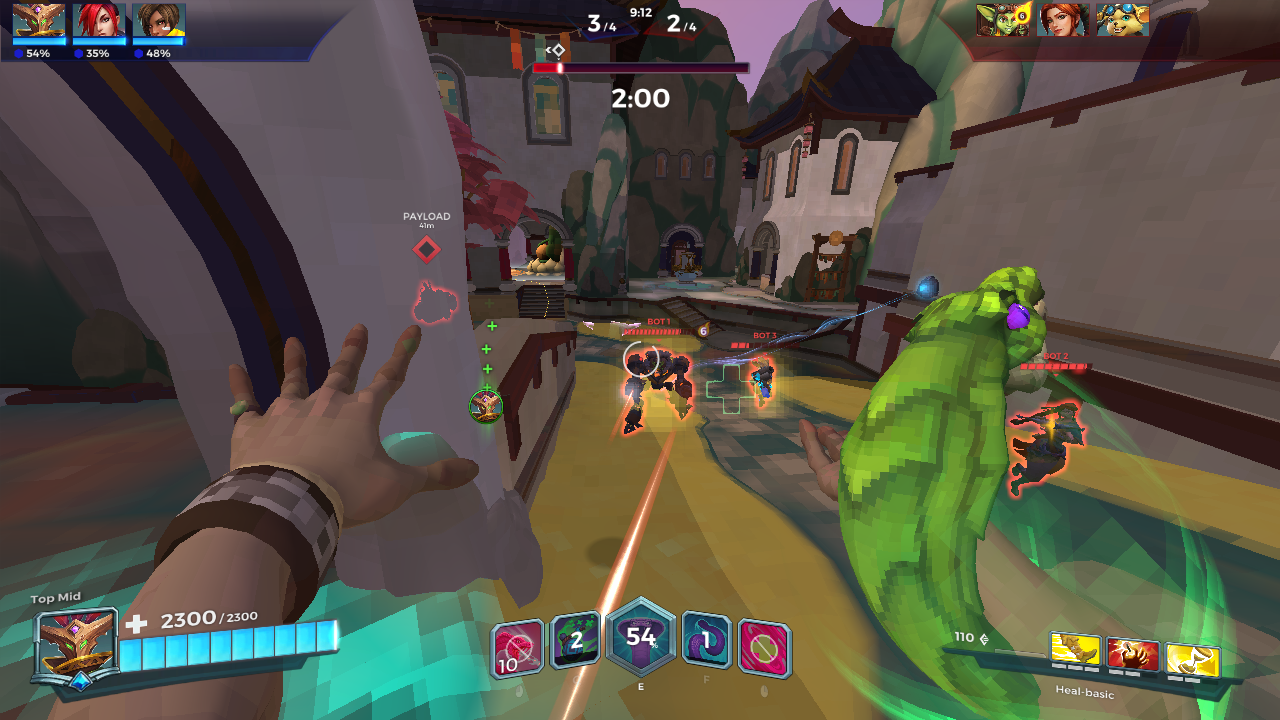model: (1000, 391, 1085, 503), (610, 345, 693, 439), (748, 349, 787, 420)
